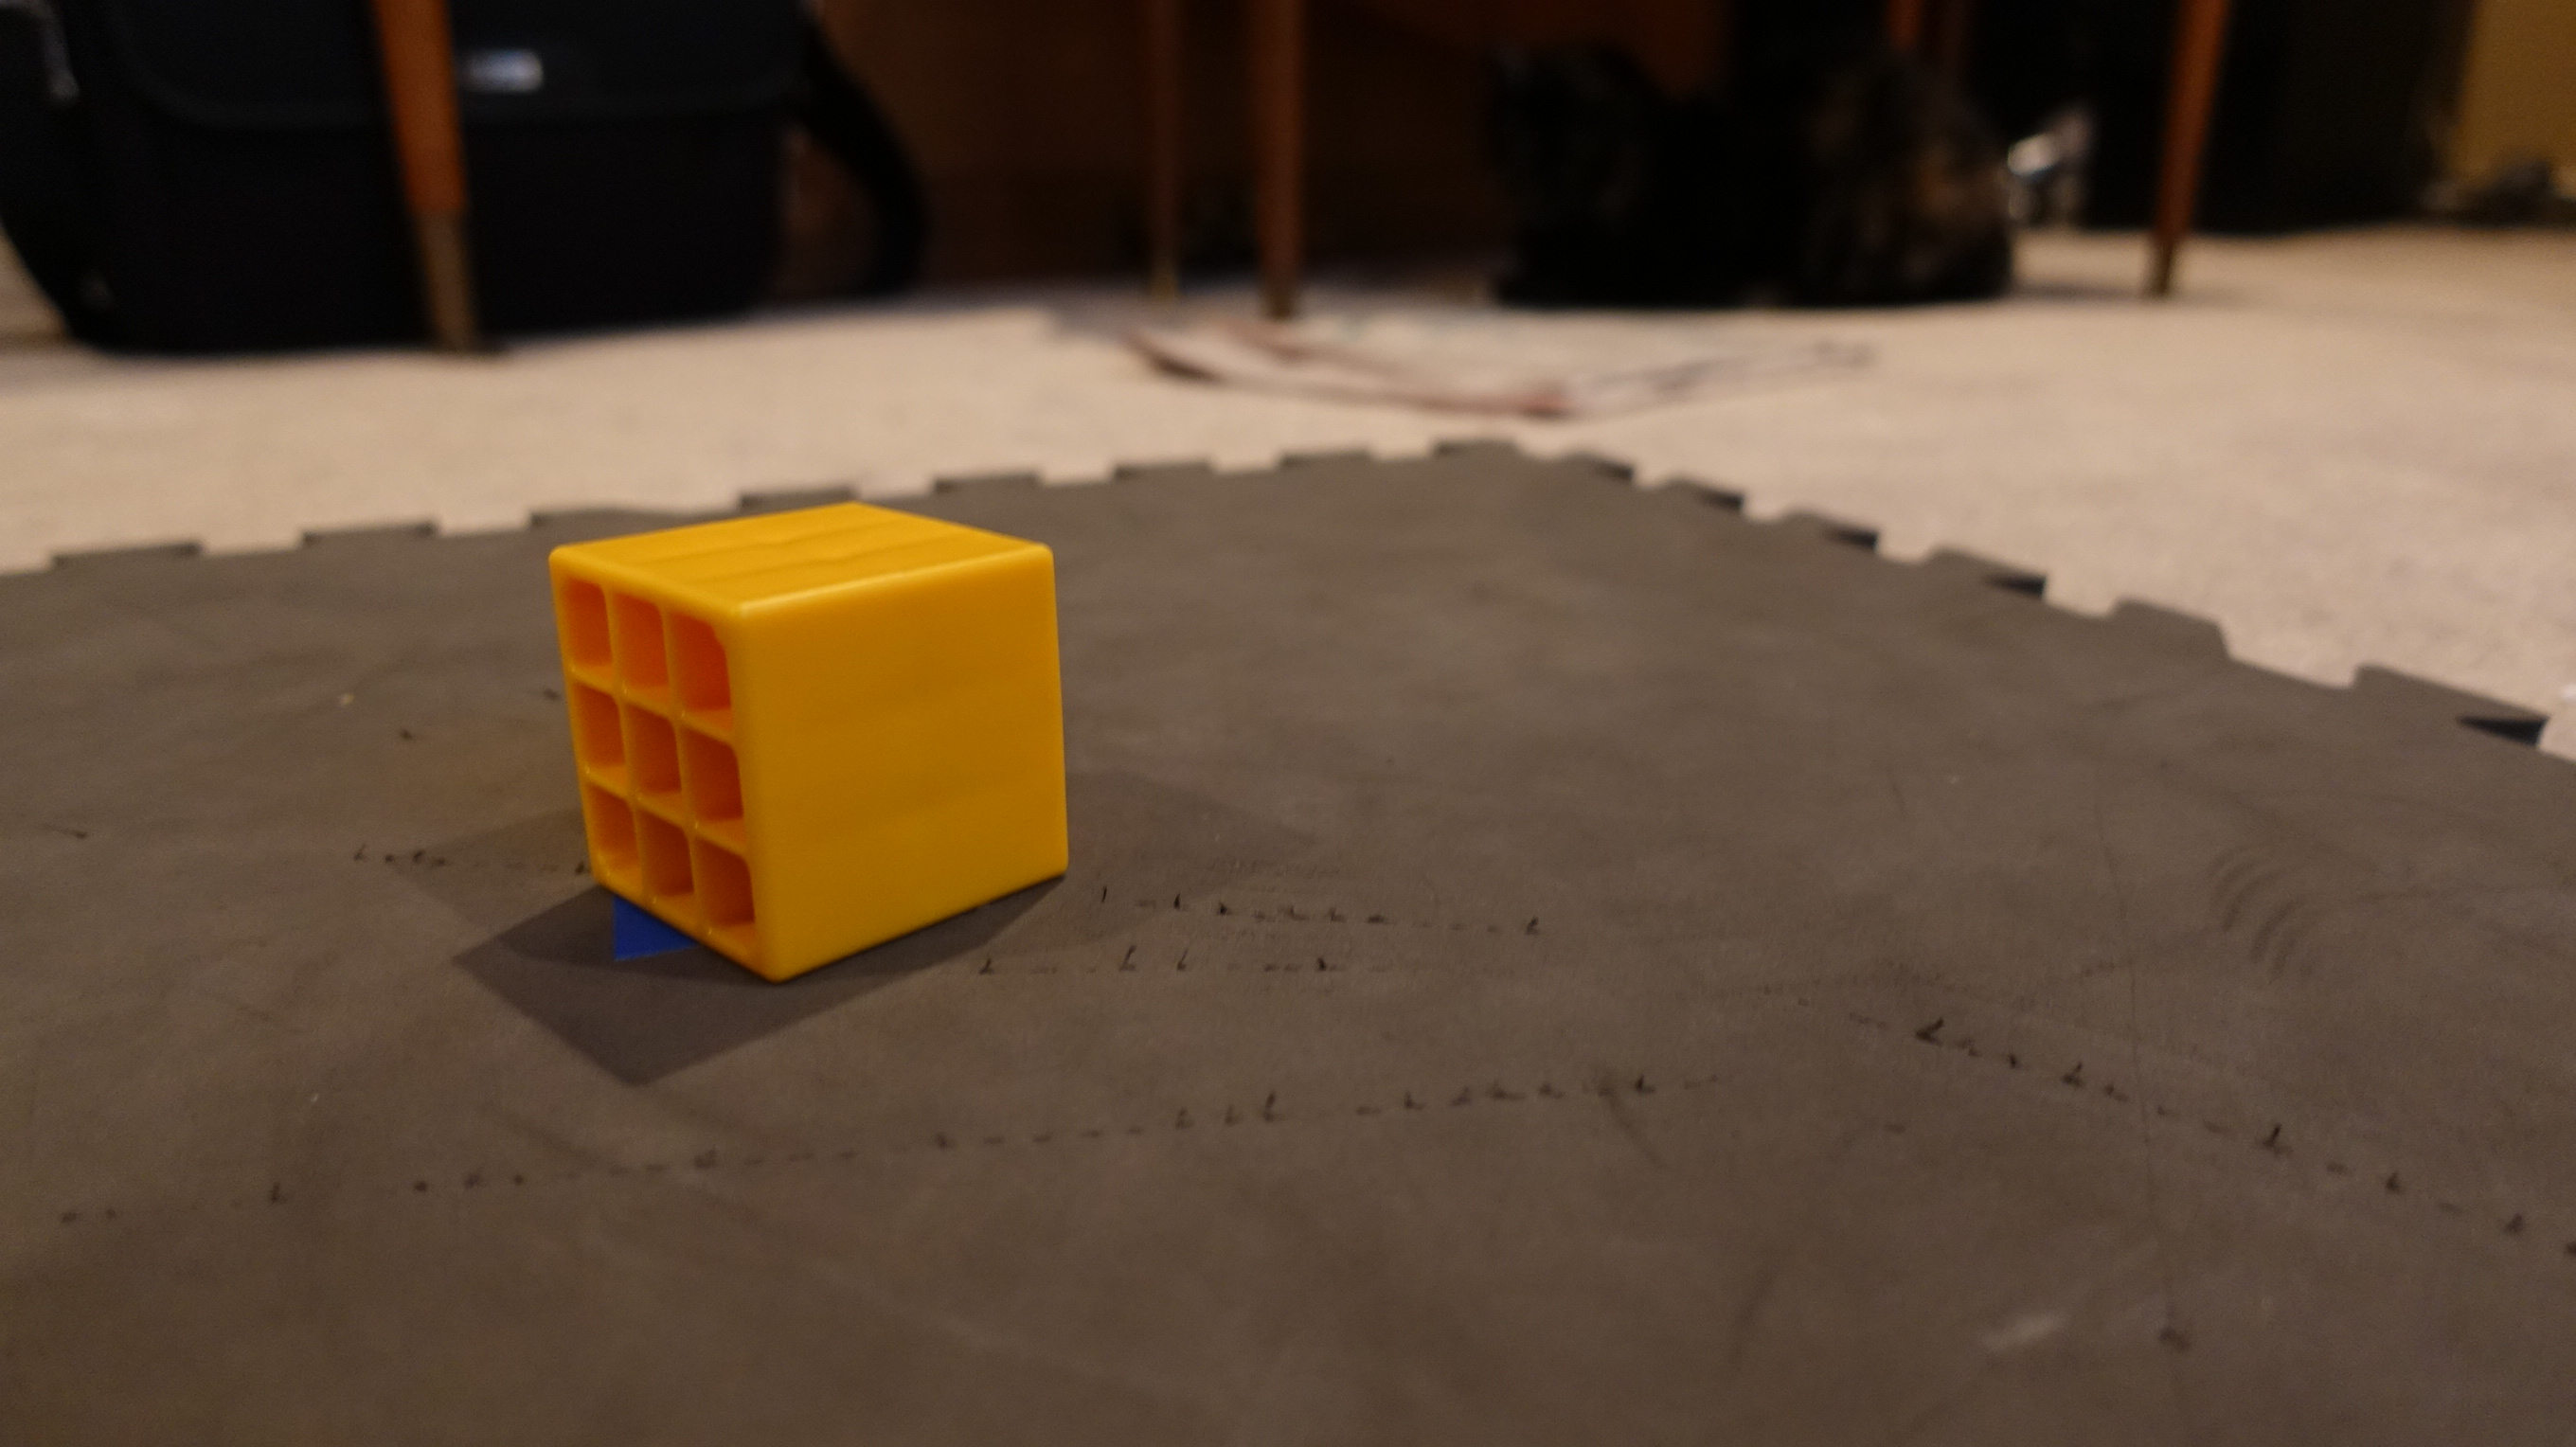gold: (540, 499, 1081, 982)
